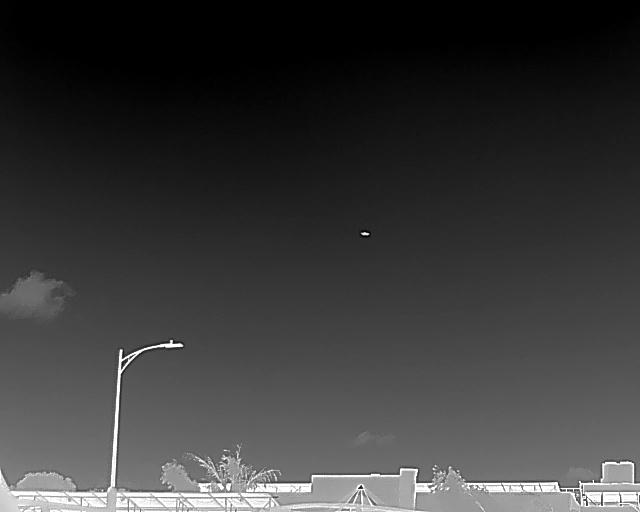fpv-drone: (359, 230, 370, 237)
